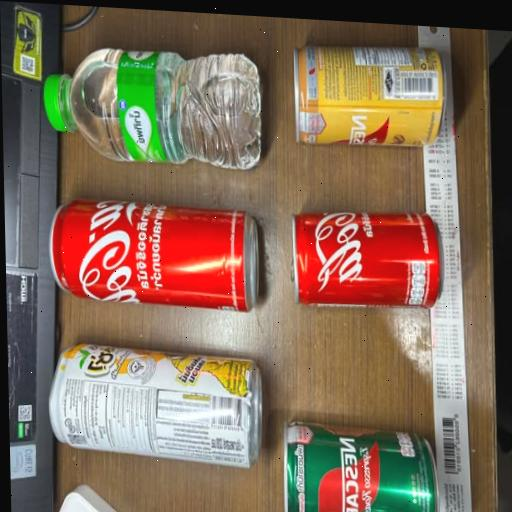bottle: (27, 22, 275, 191)
canned: (40, 325, 276, 509), (39, 180, 274, 335), (277, 25, 454, 164), (282, 197, 449, 323), (278, 401, 450, 512)
